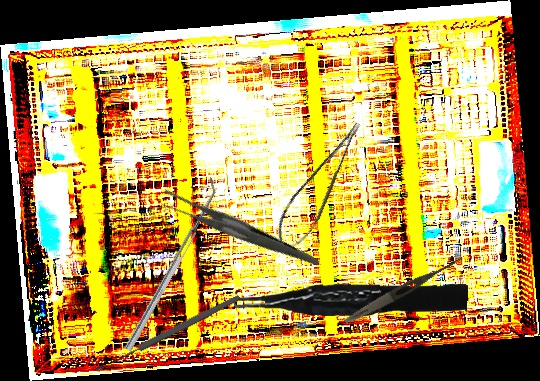Dressing Forceps: (156, 154, 320, 308), (342, 252, 464, 328)
Micro Scissor: (262, 118, 383, 258)
Spatula Surgical: (117, 177, 224, 352)
Surgical Spoon: (93, 292, 242, 375)
Tissue Forceps: (233, 276, 469, 321)
